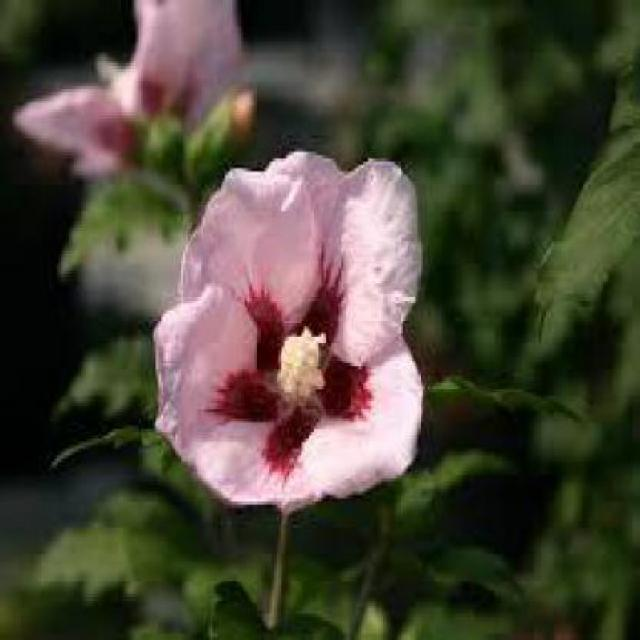flower: (159, 138, 427, 528)
